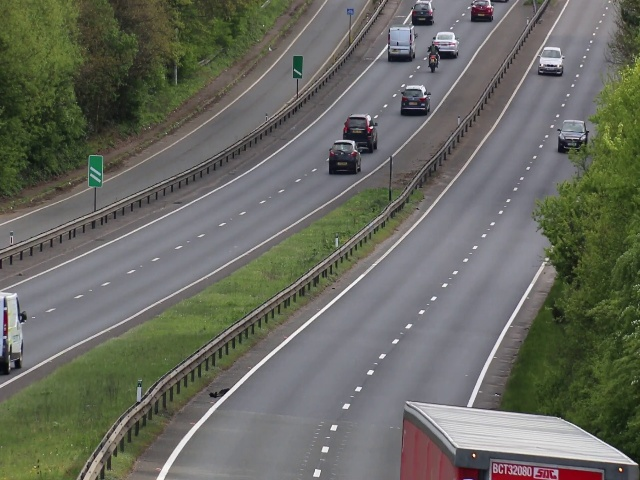car: (1, 296, 29, 366), (344, 111, 378, 151), (330, 138, 363, 179), (401, 79, 431, 117), (388, 25, 416, 65), (557, 117, 586, 154), (538, 41, 563, 80), (434, 28, 457, 56), (469, 1, 495, 23), (409, 1, 434, 22)
